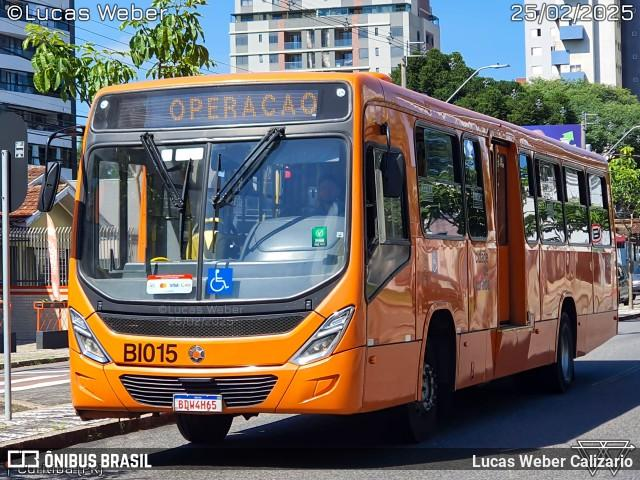OPERACAO: (165, 89, 322, 125)
